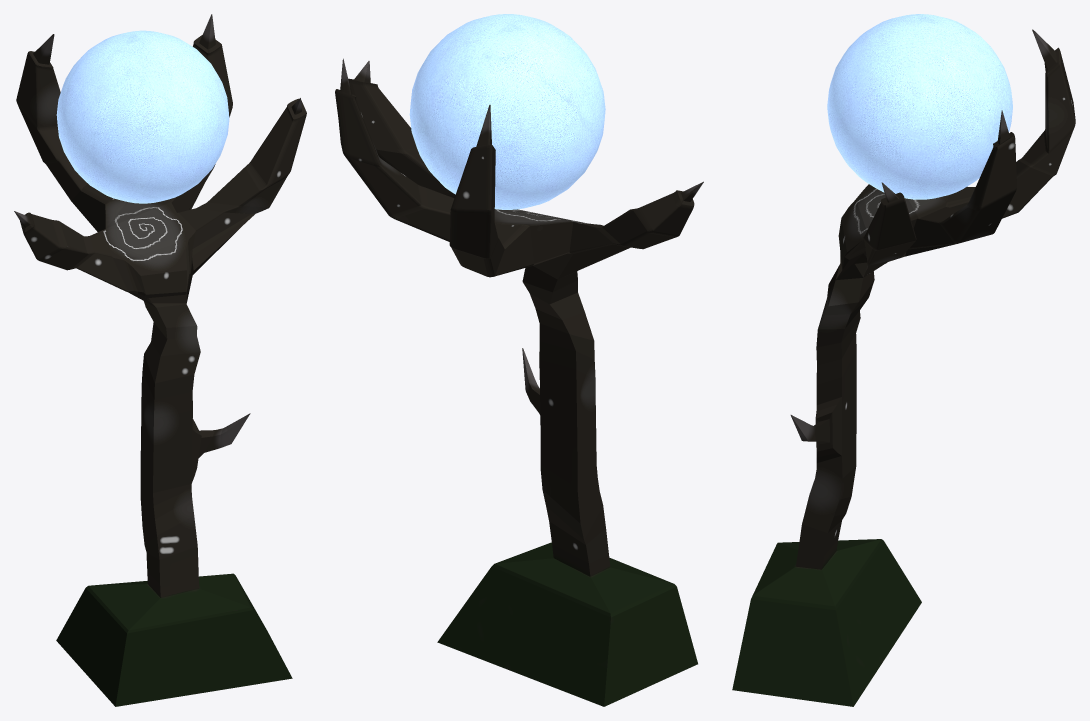
The model's file is Modelado_Checkpint.glb.
The picture shows the model from 3 angles, left to right: view 1: azimuth 30°, elevation 25°; view 2: azimuth 150°, elevation 25°; view 3: azimuth 270°, elevation 25°; orthographic projection. The views are drawn at different scales.
Visible parts, largest first — view 1: pata2.002, Sphere; view 2: pata2.002, Sphere; view 3: pata2.002, Sphere.
Boxes of the visible parts, x1,y1,x2,y2 form: pata2.002: (14,14,306,706); Sphere: (56,30,229,203); pata2.002: (335,58,703,706); Sphere: (409,14,605,209); pata2.002: (732,29,1075,706); Sphere: (827,14,1012,199).
Size of the model in its own units: 3.23 by 6.08 by 2.97.
2 materials, 2 textured.
